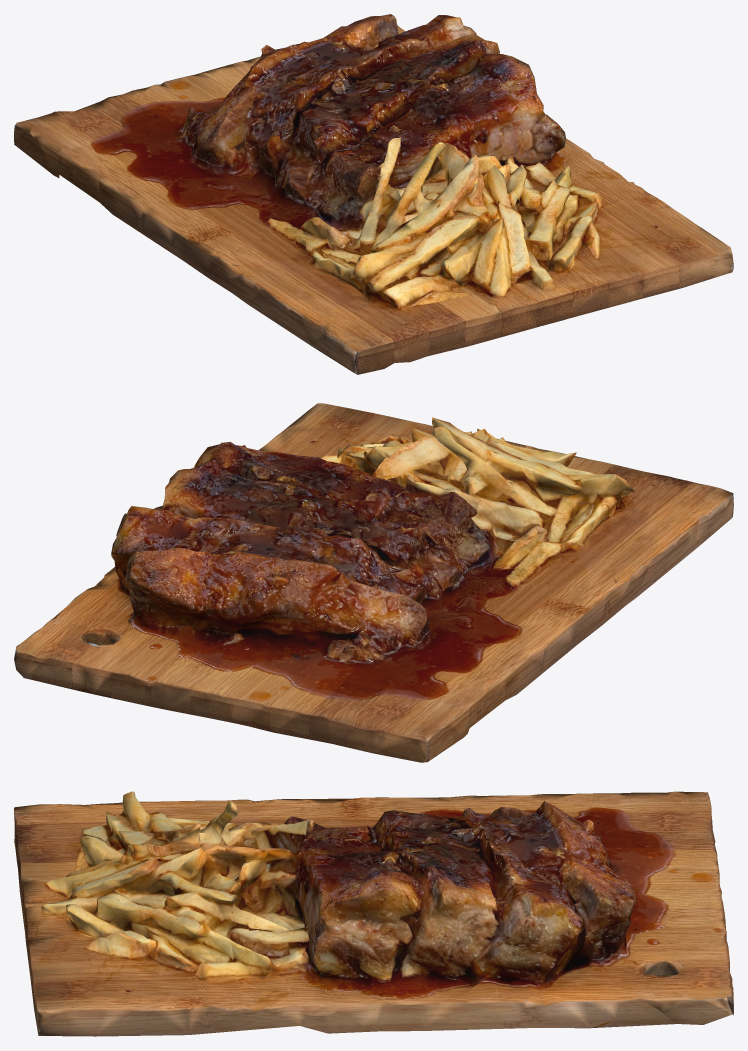
The model's file is BBQS.glb.
3 views of the same model, one above another, from view 1: azimuth 30°, elevation 25°; view 2: azimuth 150°, elevation 25°; view 3: azimuth 270°, elevation 25° (orthographic). The views are drawn at different scales.
Visible parts, largest first — view 1: BBQ; view 2: BBQ; view 3: BBQ.
Part boxes in pixels (<box>): BBQ: <box>14,14,733,374</box>; BBQ: <box>14,403,733,762</box>; BBQ: <box>14,791,733,1036</box>.
Bounding box in the file's own units: 0.9402 × 0.2619 × 1.3.
Materials: 1 (1 with a texture image).
